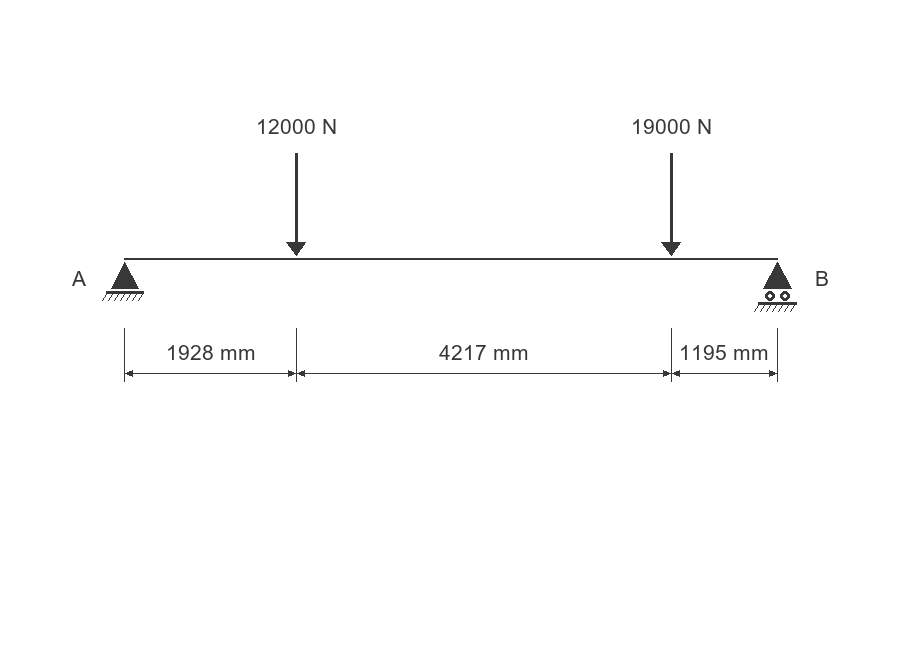pin_support: (102, 262, 144, 301)
point_load: (286, 153, 306, 256), (661, 153, 681, 256)
roller_support: (754, 262, 797, 312)
